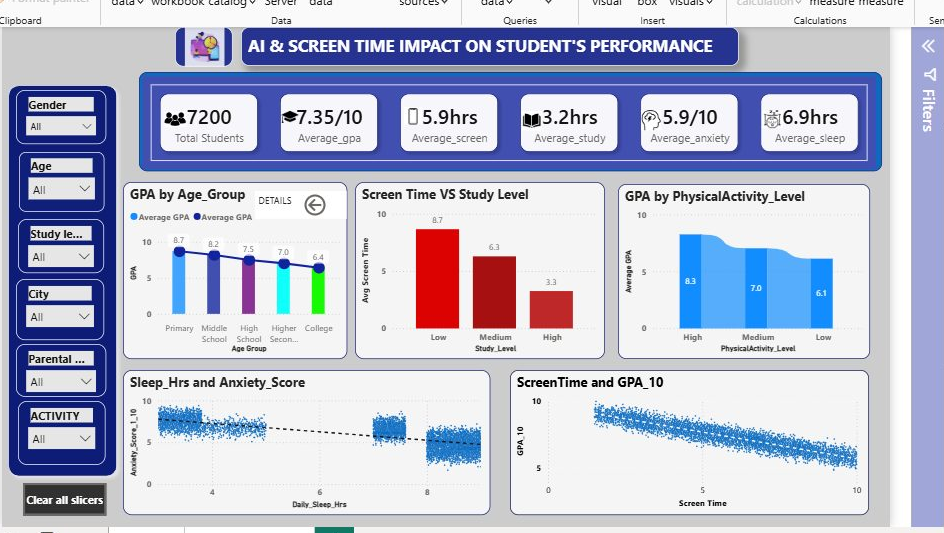

The page's visual inventory and layout, read from the dashboard file:
{"tool":"powerbi","page":{"name":"Page 1","canvas":[1280,720],"ordinal":0},"visuals":[{"type":"textbox","box":[344.2,0,717.1,56.2],"z":0},{"type":"shape","box":[0,75.6,174.7,581.2],"z":1000},{"type":"textbox","box":[249.3,0,82.6,56.5],"z":2000},{"type":"image","box":[171,0,240.6,56.5],"z":3000},{"type":"slicer","fields":{"Values":["Sheet1.Gender"]},"box":[20.5,90.7,130.2,77.6],"z":4000},{"type":"slicer","fields":{"Values":["Sheet1.Age_Group"]},"box":[24.9,180,122.9,86.3],"z":5000},{"type":"slicer","fields":{"Values":["Sheet1.Study_Level"]},"box":[23.4,276.6,124.4,77.6],"z":6000},{"type":"slicer","fields":{"Values":["Sheet1.City"]},"box":[20.5,362.9,127.3,87.8],"z":7000},{"type":"slicer","fields":{"Values":["Sheet1.Parental_Control"]},"box":[20.5,456.6,130.2,76.1],"z":8000},{"type":"slicer","fields":{"Values":["Sheet1.PhysicalActivity_Level"]},"box":[23.4,538.5,125.9,92.2],"z":9000},{"type":"cardVisual","fields":{"Data":["Sheet1.Total Students","Sheet1.average_gpa","Sheet1.average_screen","Sheet1.average_study","Sheet1.average_anxiety","Sheet1.average_sleep"]},"box":[197.1,65.2,1069.6,143.5],"z":10000},{"type":"image","box":[233.3,115.9,31.9,31.9],"z":11000},{"type":"image","box":[401.4,107.2,26.1,44.9],"z":12000},{"type":"image","box":[578.3,110.1,26.1,37.7],"z":13000},{"type":"image","box":[920.3,115.9,29,34.8],"z":14000},{"type":"image","box":[749.3,120.3,27.5,27.5],"z":15000},{"type":"image","box":[1094.2,115.9,30.4,31.9],"z":16000},{"type":"lineClusteredColumnComboChart","title":" GPA by Age_Group","fields":{"Category":["Sheet1.Age_Group"],"Y":["Sheet1.Average GPA"],"Y2":["Sheet1.Average GPA"]},"box":[174.2,223.2,322.6,254.9],"z":17000},{"type":"clusteredColumnChart","title":" Screen Time VS Study Level","fields":{"Category":["Sheet1.Study_Level"],"Y":["Sheet1.Avg Screen Time"]},"box":[508.3,223.2,360,254.9],"z":18000},{"type":"scatterChart","title":"ScreenTime and GPA_10","fields":{"X":["Sheet1.Daily_ScreenTime_Total_Hrs"],"Y":["Sheet1.GPA_10"]},"box":[731.9,494.2,517.4,208.7],"z":19000},{"type":"ribbonChart","title":"GPA by PhysicalActivity_Level","fields":{"Category":["Sheet1.PhysicalActivity_Level"],"Y":["Sheet1.Average GPA"]},"box":[887,226.1,362.9,252],"z":20000},{"type":"scatterChart","title":"Sleep_Hrs and Anxiety_Score","fields":{"X":["Sheet1.Daily_Sleep_Hrs"],"Y":["Sheet1.Anxiety_Score_1_10"]},"box":[173.9,494.2,529,208.7],"z":21000},{"type":"actionButton","box":[30.7,657.1,120,46.8],"z":22000},{"type":"textbox","box":[364.3,236.2,132.5,40.3],"z":23000},{"type":"actionButton","box":[430.6,236.2,99.4,40.3],"z":24000}]}

Visuals, with their boxes in screenshot pixels (x1, y1, x2, y2):
textbox: [left=232, top=22, right=735, bottom=62]
shape: [left=0, top=75, right=113, bottom=483]
textbox: [left=165, top=22, right=223, bottom=62]
image: [left=110, top=22, right=279, bottom=62]
slicer - Sheet1.Gender: [left=5, top=86, right=96, bottom=140]
slicer - Sheet1.Age_Group: [left=8, top=148, right=94, bottom=209]
slicer - Sheet1.Study_Level: [left=7, top=216, right=94, bottom=271]
slicer - Sheet1.City: [left=5, top=277, right=94, bottom=338]
slicer - Sheet1.Parental_Control: [left=5, top=342, right=96, bottom=396]
slicer - Sheet1.PhysicalActivity_Level: [left=7, top=400, right=95, bottom=465]
cardVisual - Sheet1.Total Students x Sheet1.average_gpa: [left=128, top=68, right=879, bottom=169]
image: [left=154, top=103, right=176, bottom=126]
image: [left=272, top=97, right=290, bottom=129]
image: [left=396, top=99, right=414, bottom=126]
image: [left=636, top=103, right=656, bottom=128]
image: [left=516, top=107, right=535, bottom=126]
image: [left=758, top=103, right=779, bottom=126]
" GPA by Age_Group" lineClusteredColumnComboChart: [left=112, top=179, right=339, bottom=358]
" Screen Time VS Study Level" clusteredColumnChart: [left=347, top=179, right=599, bottom=358]
"ScreenTime and GPA_10" scatterChart: [left=504, top=369, right=867, bottom=515]
"GPA by PhysicalActivity_Level" ribbonChart: [left=612, top=181, right=867, bottom=358]
"Sleep_Hrs and Anxiety_Score" scatterChart: [left=112, top=369, right=483, bottom=515]
actionButton: [left=12, top=483, right=96, bottom=516]
textbox: [left=246, top=188, right=339, bottom=216]
actionButton: [left=292, top=188, right=362, bottom=216]
